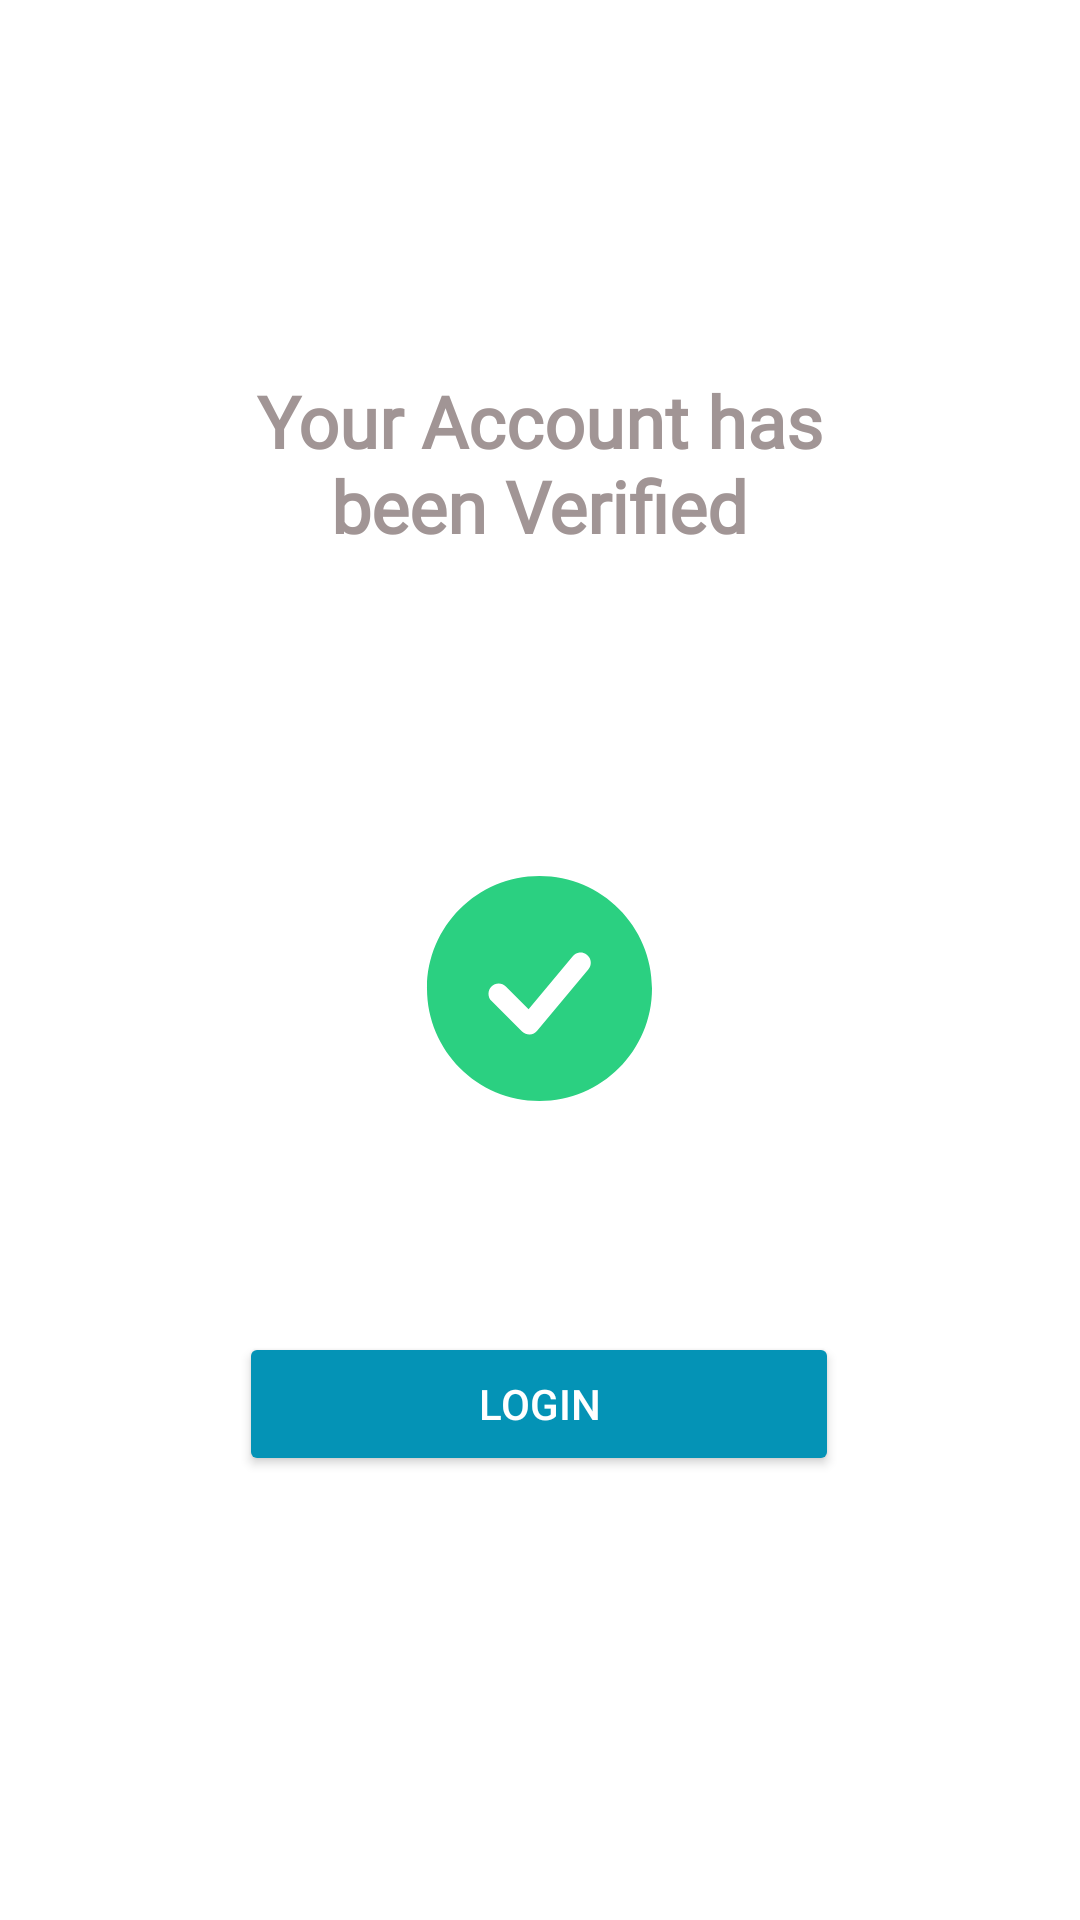

Icons on this 1080px×1920px Android screen, each with the point to tap as point (x, y):
verified: point (539, 988)
